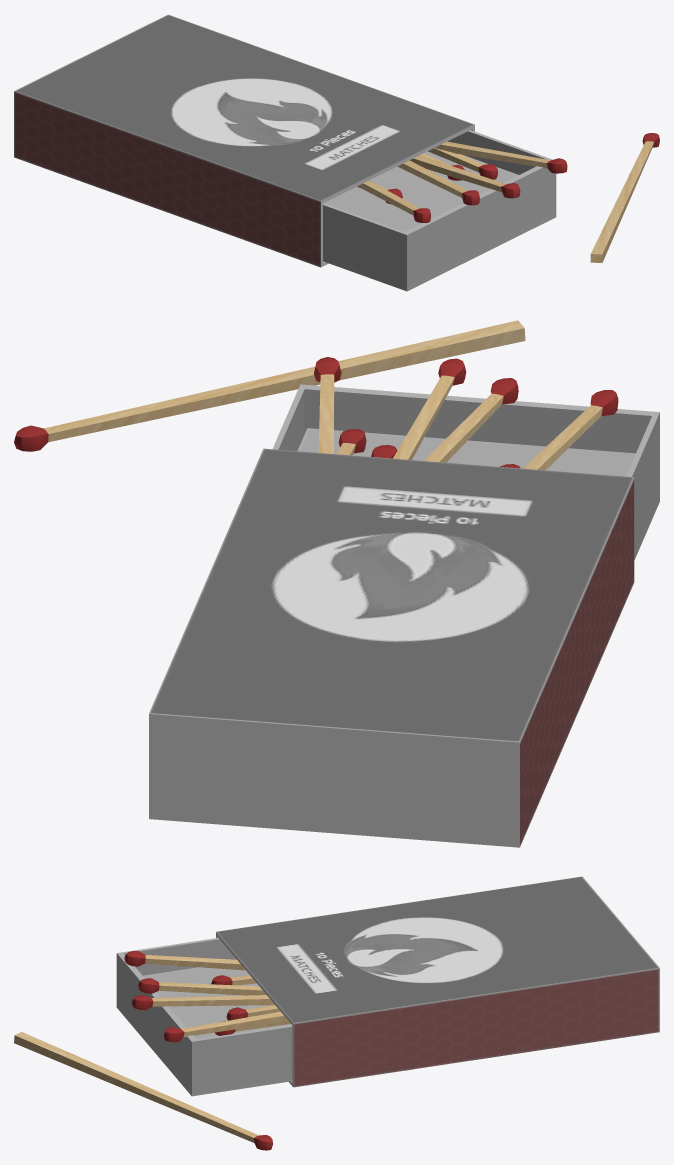
The model's file is Matches UV.fbx.
3 views of the same model, one above another, from view 1: azimuth 30°, elevation 25°; view 2: azimuth 150°, elevation 25°; view 3: azimuth 270°, elevation 25° (orthographic). The views are drawn at different scales.
Visible parts, largest first — view 1: aussen, innen, pPlane1, Match17, Match23, Match14, Match12, Match22, Match13; view 2: aussen, innen, Match17, pPlane1, Match12, Match14, Match22, Match23; view 3: aussen, innen, Match17, pPlane1, Match14, Match23, Match12, Match22, Match24.
Boxes of the visible parts, x1,y1,x2,y2 form: aussen: (14, 14, 474, 267); innen: (323, 130, 556, 291); pPlane1: (324, 151, 518, 231); Match17: (590, 133, 659, 262); Match23: (431, 141, 567, 173); Match14: (410, 155, 520, 198); Match12: (397, 160, 479, 205); Match22: (357, 180, 430, 222); Match13: (428, 148, 497, 179); aussen: (149, 448, 634, 847); innen: (272, 384, 659, 560); Match17: (14, 320, 525, 451); pPlane1: (297, 428, 635, 476); Match12: (424, 378, 518, 462); Match14: (393, 358, 466, 459); Match22: (523, 390, 618, 470); Match23: (314, 357, 341, 453); aussen: (216, 876, 659, 1087); innen: (116, 938, 292, 1096); Match17: (14, 1032, 272, 1150); pPlane1: (143, 967, 291, 1039); Match14: (131, 995, 274, 1010); Match23: (164, 1011, 288, 1042); Match12: (138, 978, 266, 995); Match22: (124, 951, 245, 970); Match24: (226, 1005, 280, 1020).
Bounding box in the file's own units: 15.17 × 2.24 × 18.25.
1 material, 1 textured.
